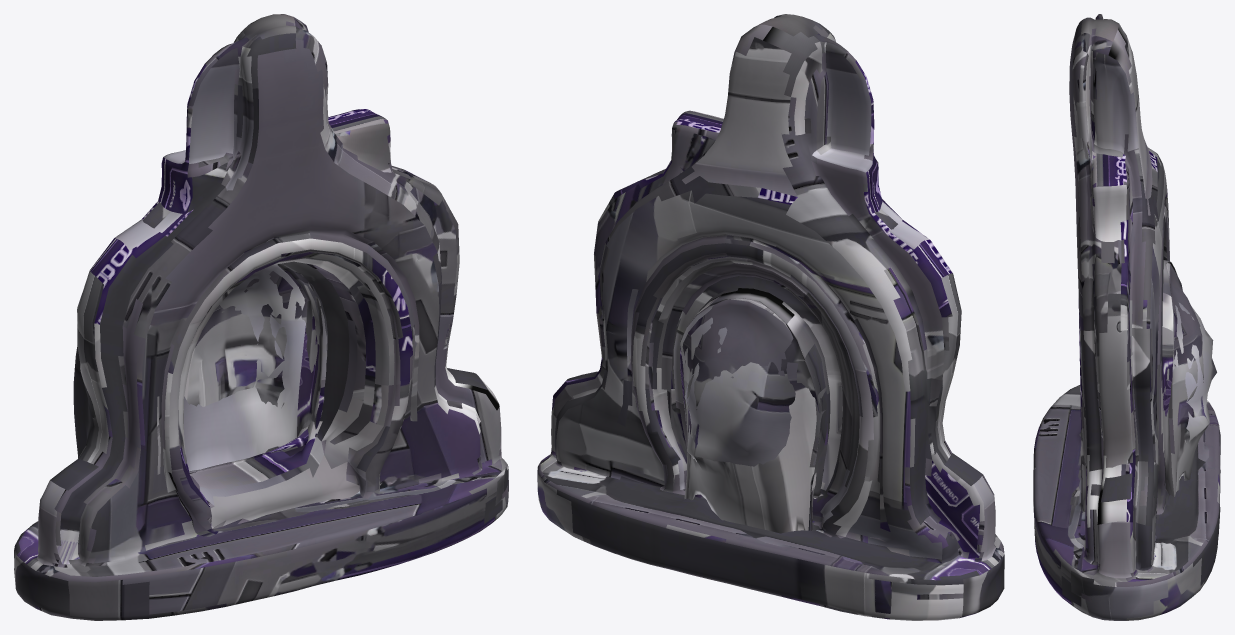
The model's file is 壁炉原型.fbx.
3 renders of one model, left to right at view 1: azimuth 30°, elevation 25°; view 2: azimuth 150°, elevation 25°; view 3: azimuth 270°, elevation 25°, orthographic. The views are drawn at different scales.
Visible parts, largest first — view 1: 左边绿色壁炉; view 2: 左边绿色壁炉; view 3: 左边绿色壁炉.
Part boxes in pixels (x1,y1,x2,y2): 左边绿色壁炉: (14,14,508,620); 左边绿色壁炉: (537,14,1004,620); 左边绿色壁炉: (1033,14,1220,620).
Bounding box in the file's own units: 1349 × 1490 × 511.
